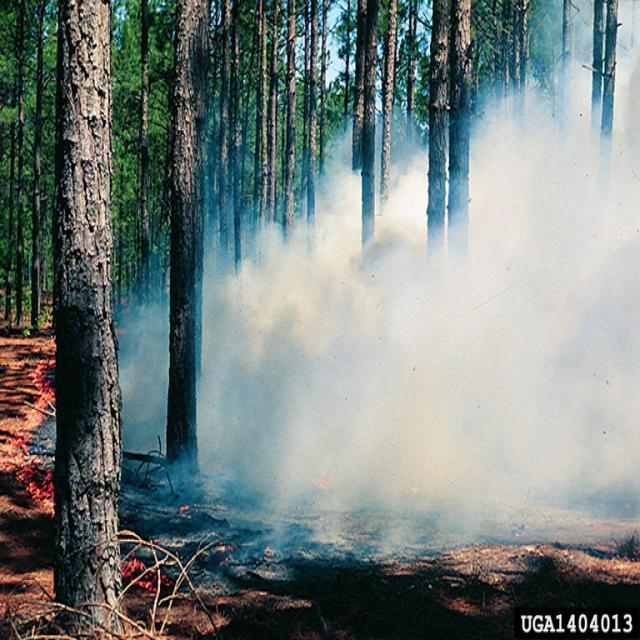Smoke: (114, 0, 639, 562)
